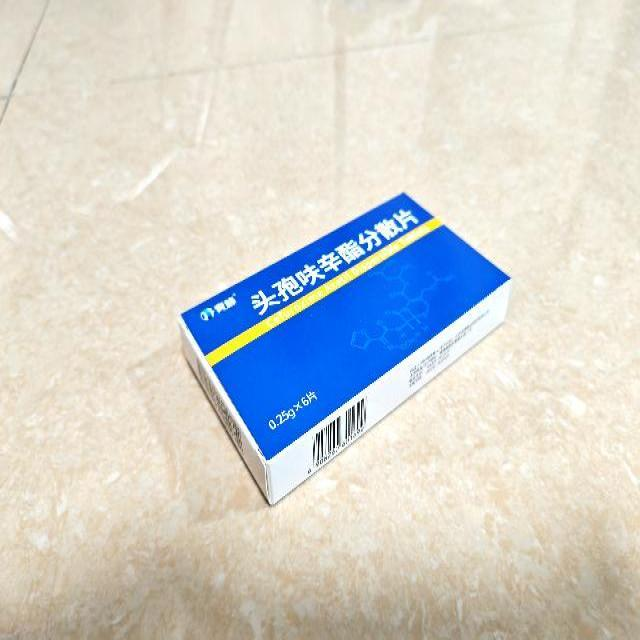box: (178, 189, 512, 504)
